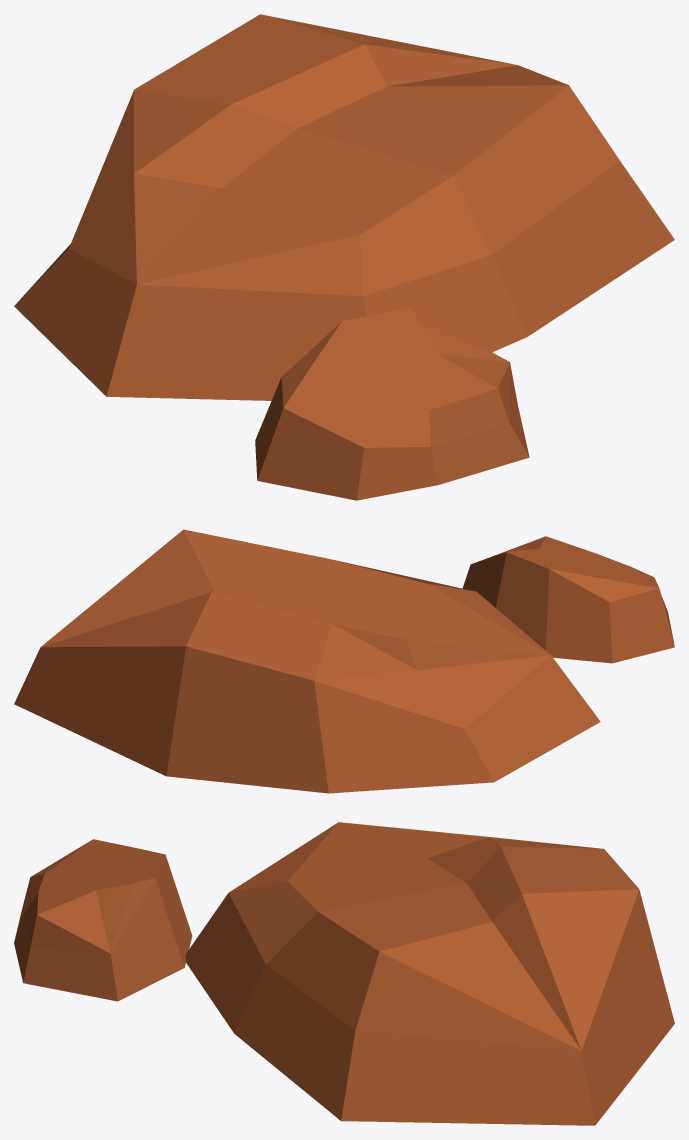
The model's file is model_rock_conyon_small01.fbx.
The picture shows the model from 3 angles, top to bottom: view 1: azimuth 30°, elevation 25°; view 2: azimuth 150°, elevation 25°; view 3: azimuth 270°, elevation 25°; orthographic projection. The views are drawn at different scales.
Visible parts, largest first — view 1: model_rock_conyon_small01; view 2: model_rock_conyon_small01; view 3: model_rock_conyon_small01.
Part boxes in pixels (x1,y1,x2,y2): model_rock_conyon_small01: (14,14,674,500); model_rock_conyon_small01: (14,529,674,793); model_rock_conyon_small01: (14,822,674,1125).
Bounding box in the file's own units: 242 × 64.82 × 272.
1 material, 1 textured.
